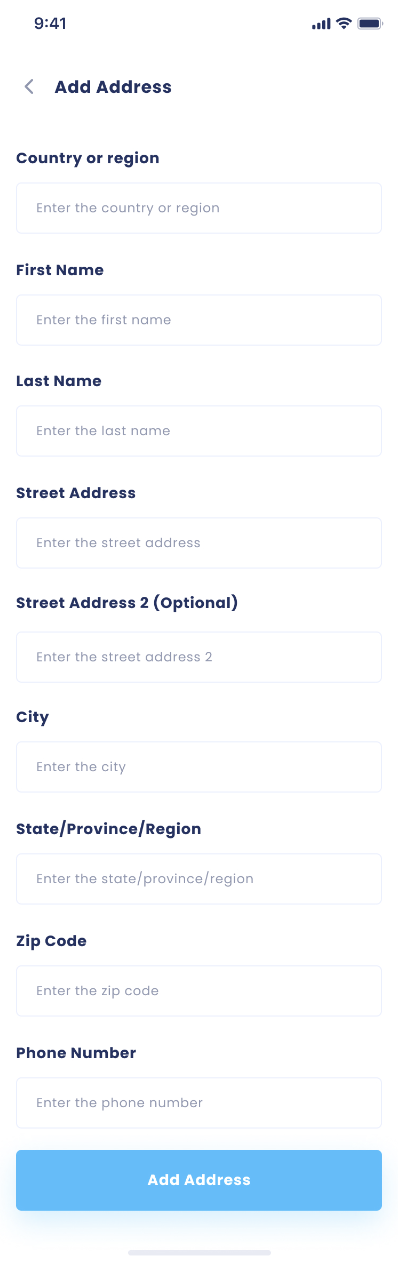Input: (13, 962, 384, 1020), (13, 402, 383, 460), (13, 179, 384, 236), (14, 514, 385, 571), (13, 738, 384, 795), (14, 850, 384, 907), (10, 291, 385, 347), (14, 1073, 385, 1129), (14, 628, 383, 684)
